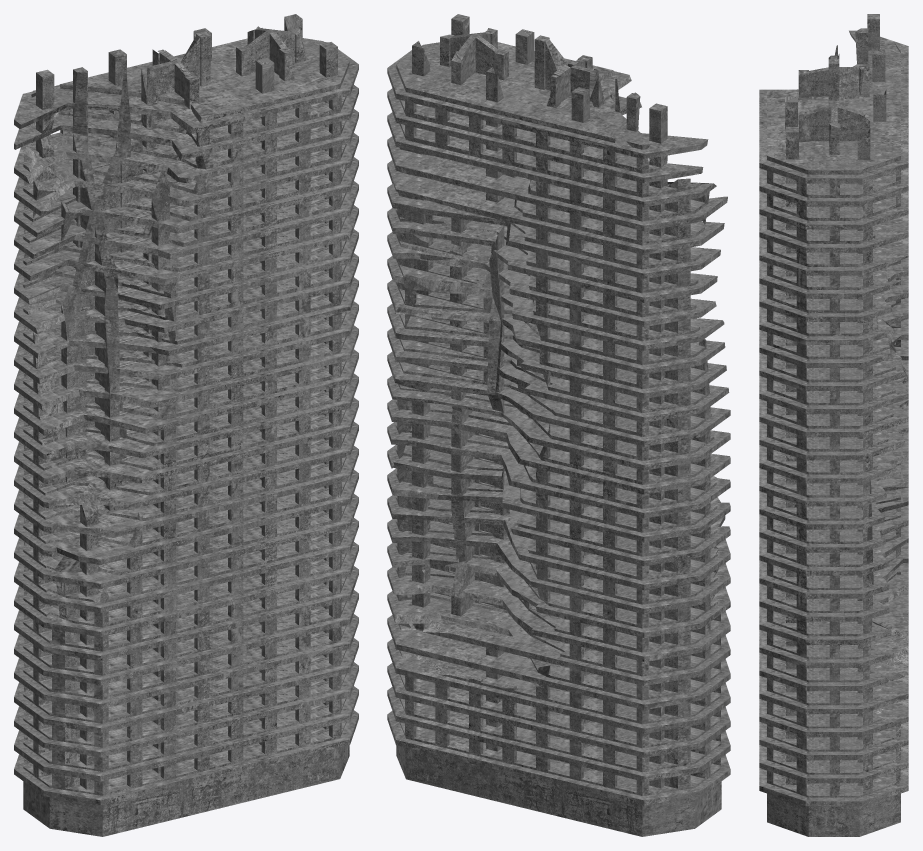
The model's file is BrokenBuilding1.gltf.
3 views of the same model, side by side, from view 1: azimuth 30°, elevation 25°; view 2: azimuth 150°, elevation 25°; view 3: azimuth 270°, elevation 25° (orthographic). The views are drawn at different scales.
Parts seen in each view (by area): view 1: Plane.003; view 2: Plane.003; view 3: Plane.003.
Part boxes in pixels (x1,y1,x2,y2): Plane.003: [14, 14, 358, 836]; Plane.003: [387, 14, 730, 836]; Plane.003: [759, 14, 908, 836].
Size of the model in its own units: 4.34 by 9.78 by 1.86.
1 material, 1 textured.
